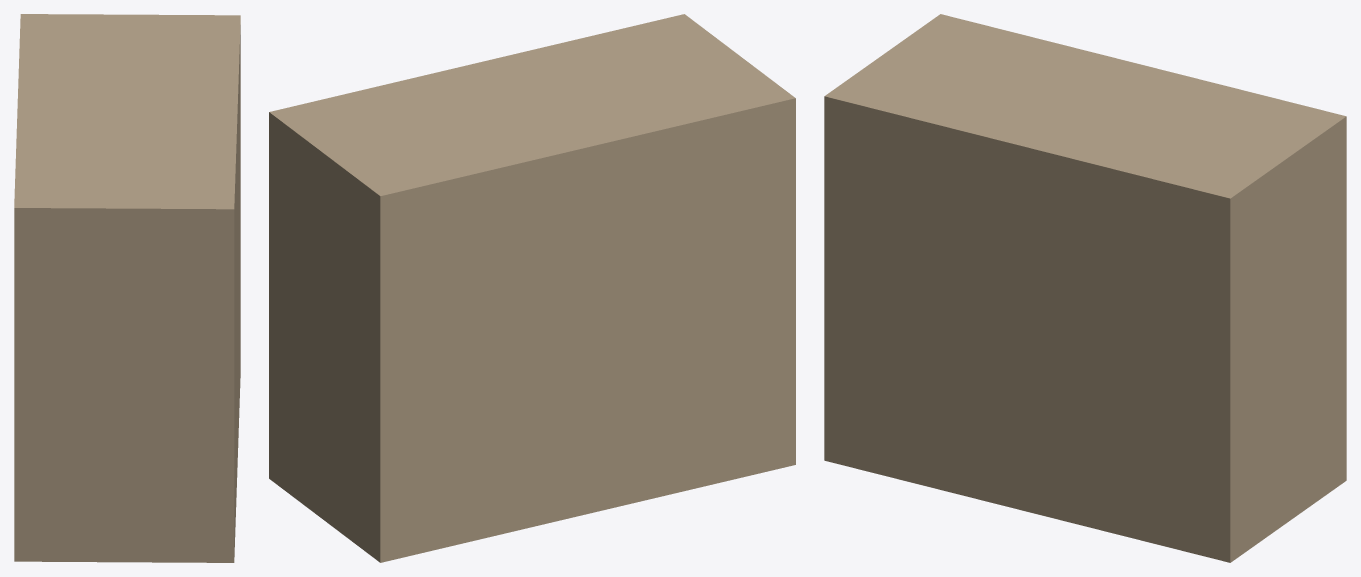
Rendered from bld_108401219.dae.
3 views of the same model, side by side, from view 1: azimuth 30°, elevation 25°; view 2: azimuth 150°, elevation 25°; view 3: azimuth 270°, elevation 25° (orthographic). The views are drawn at different scales.
Parts seen in each view (by area): view 1: bld_108401219; view 2: bld_108401219; view 3: bld_108401219.
Part boxes in pixels (<box>): bld_108401219: <box>14,14,240,562</box>; bld_108401219: <box>269,14,795,562</box>; bld_108401219: <box>824,14,1346,562</box>.
Bounding box in the file's own units: 8.69 × 10.39 × 8.
